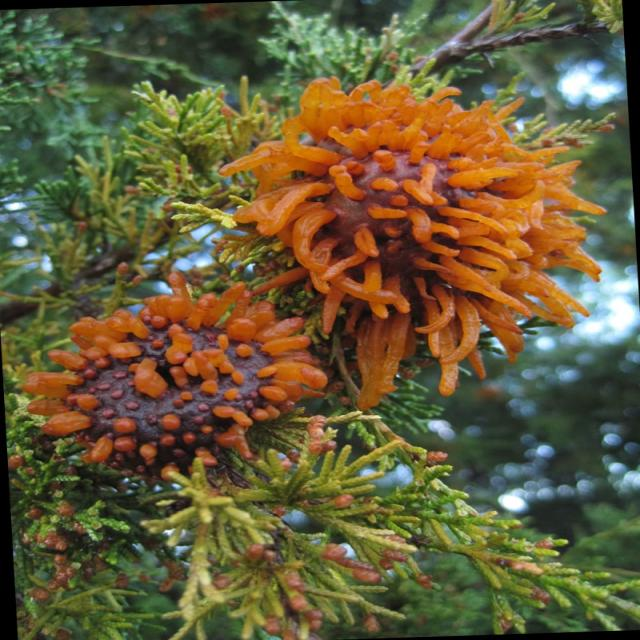Gymnosporangium_Rusts: (9, 74, 630, 636), (216, 75, 608, 410)
